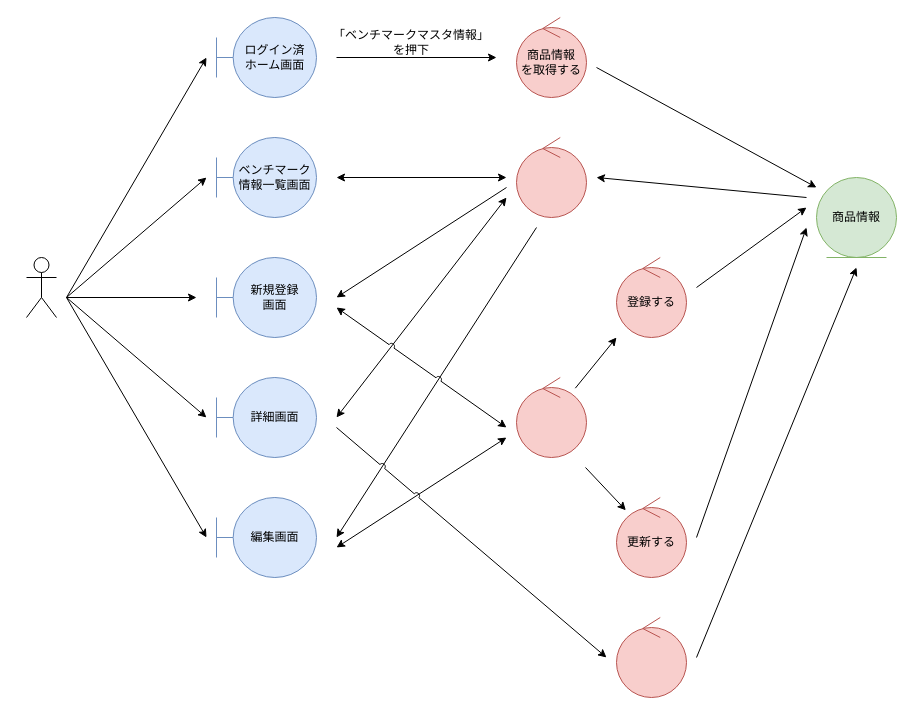
This 914x715 diagram has some shape labels left out. The centre of each missing label's shape, as x and y in pixels:
"入力データを検証する" belongs at [551,417].
"削除する" belongs at [651,657].
"管理者 正規社員" belongs at [41,287].
"表示する" belongs at [551,177].
